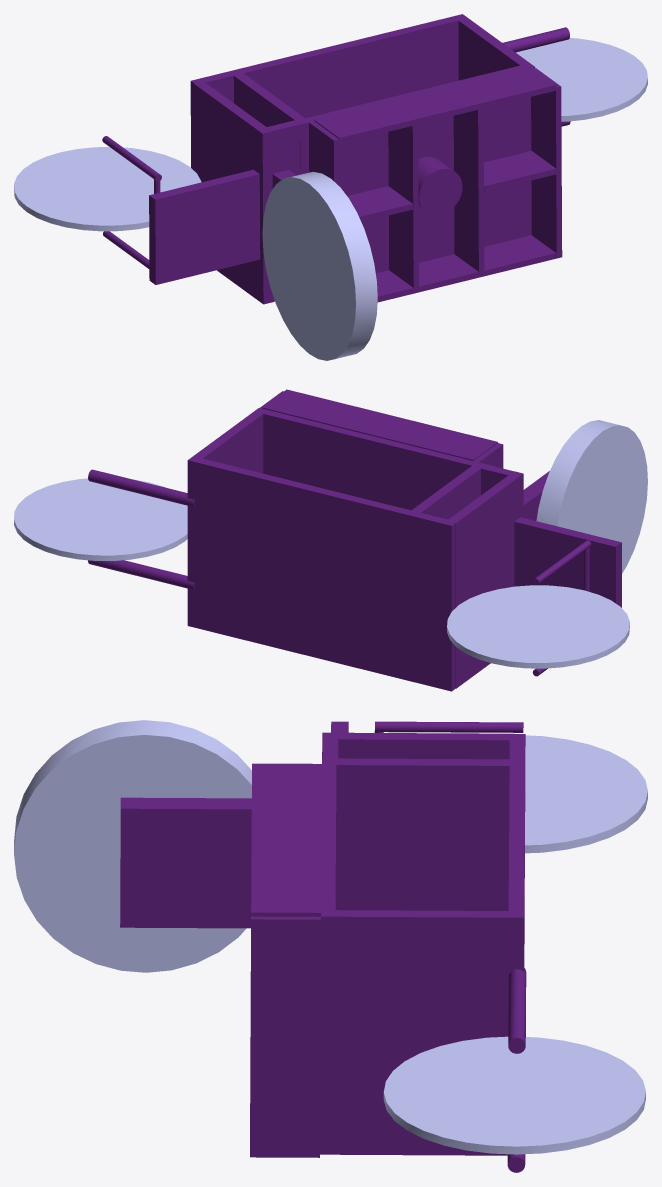
File: bike.obj
3 renders of one model, top to bottom at view 1: azimuth 30°, elevation 25°; view 2: azimuth 150°, elevation 25°; view 3: azimuth 270°, elevation 25°, orthographic. The views are drawn at different scales.
Size of the model in its own units: 1.12 by 0.3065 by 0.7251.
